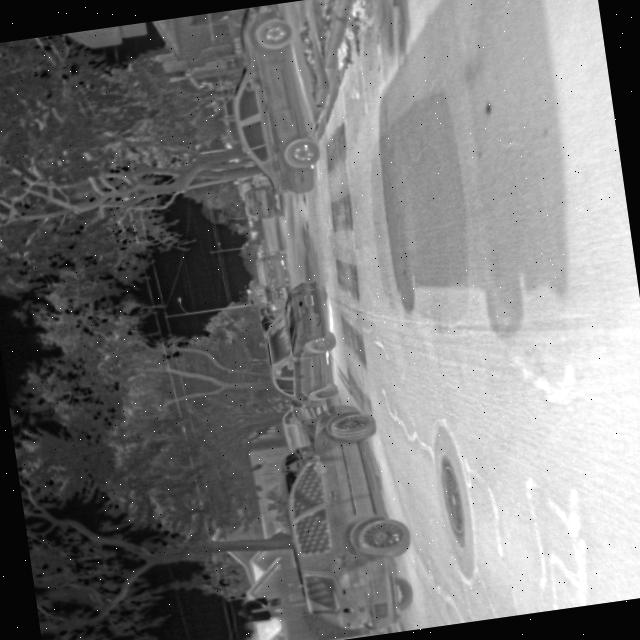Vehicle: (269, 395, 424, 640), (215, 0, 326, 204), (254, 276, 347, 412), (235, 170, 288, 227)
